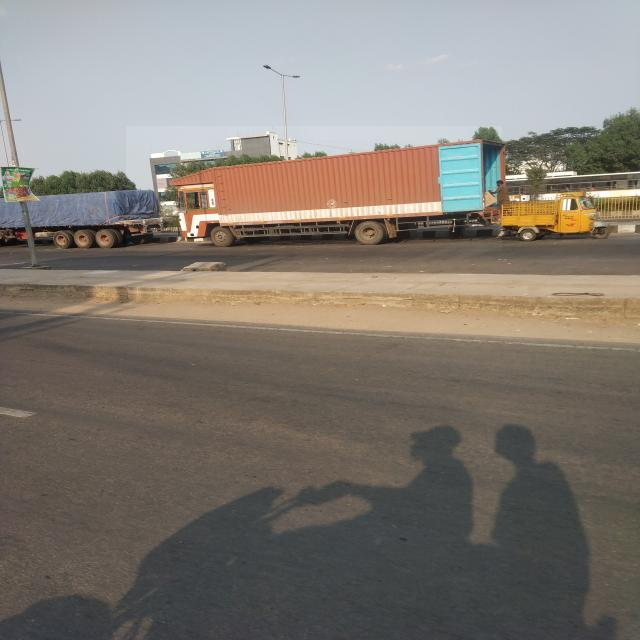Truck: (126, 126, 502, 251)
